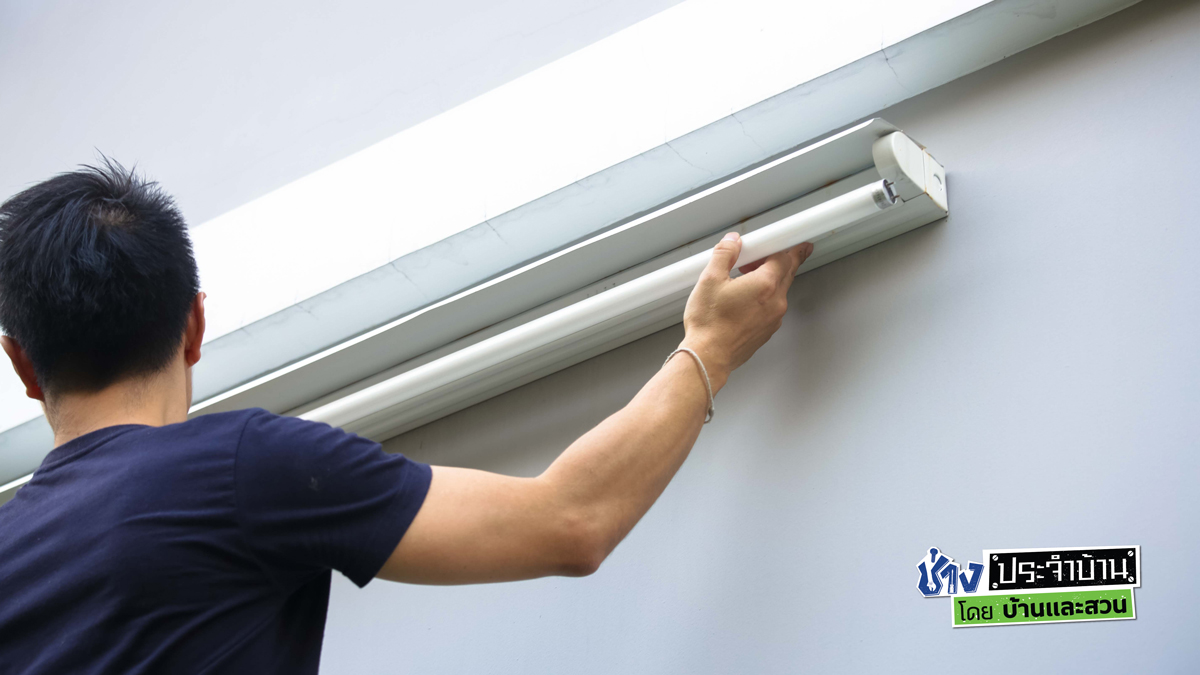Light_bulb: (290, 176, 898, 428)
